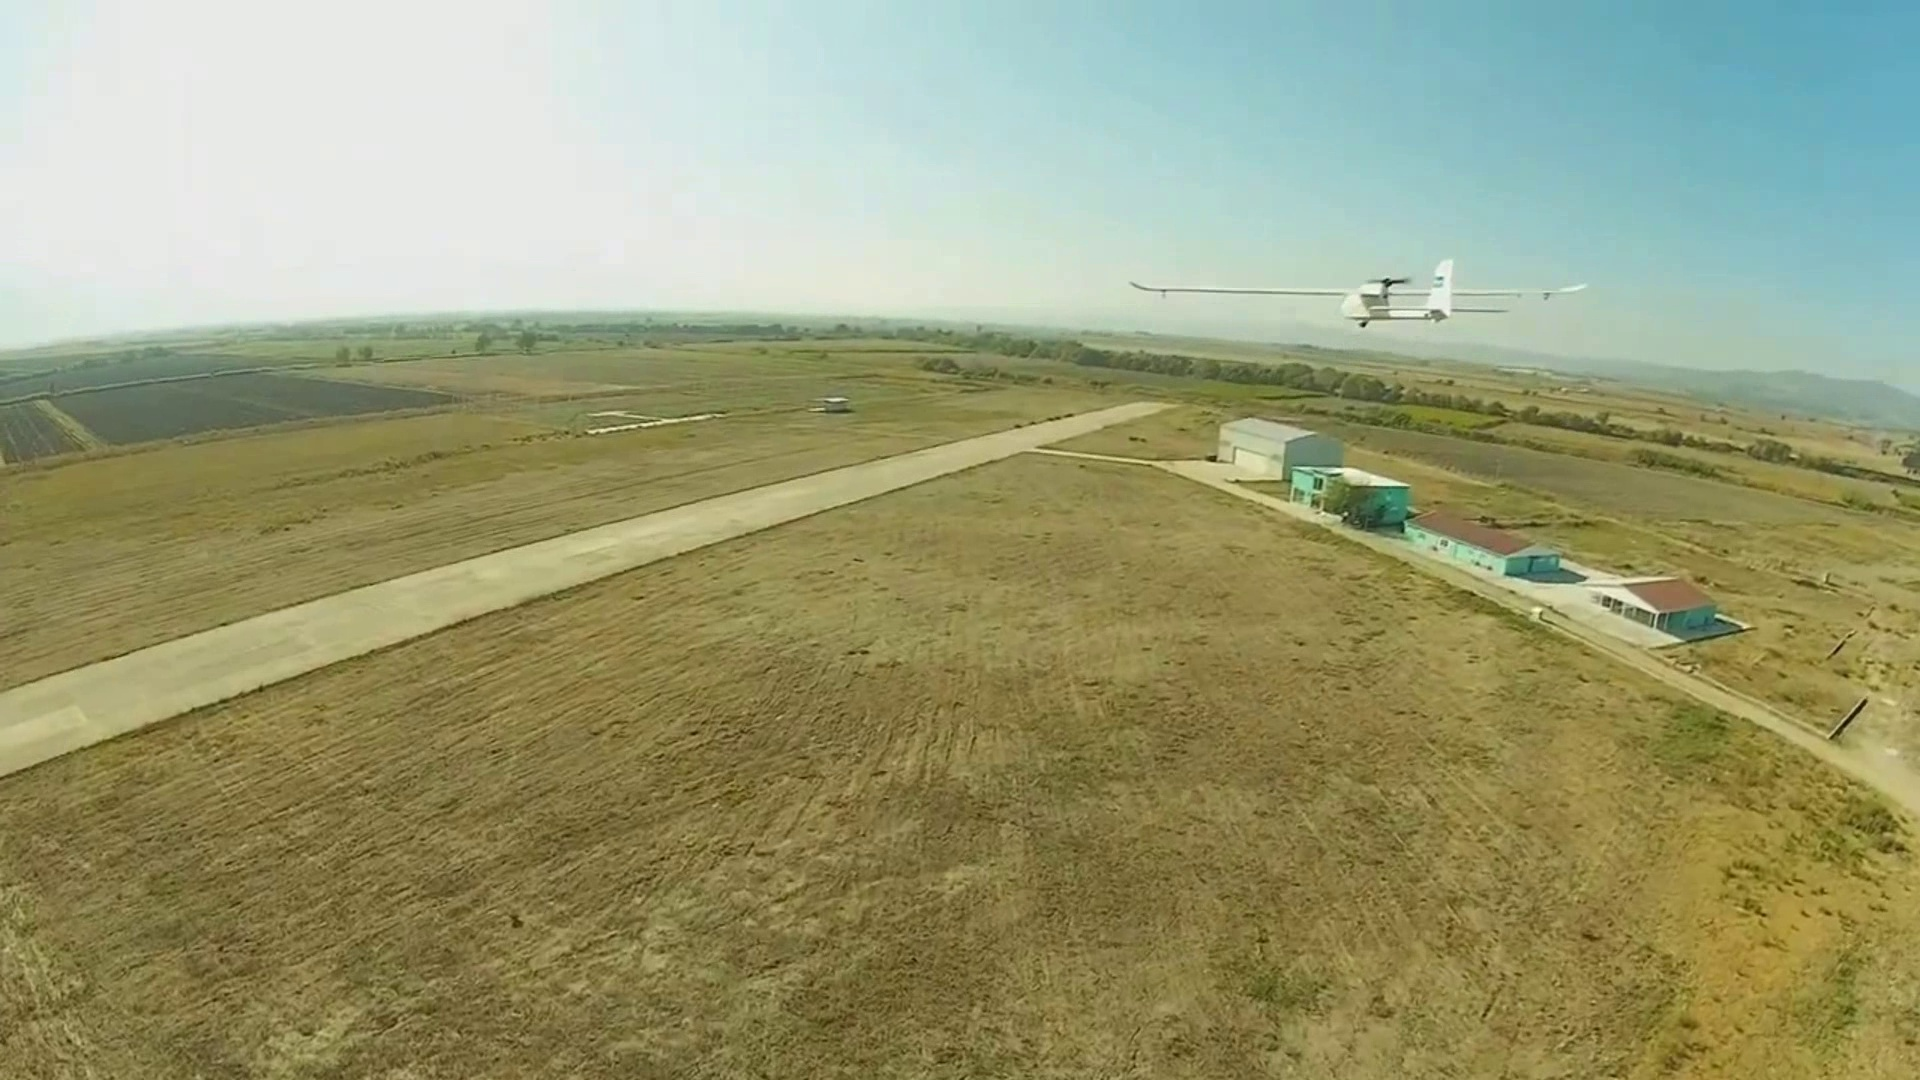airplane: (1127, 255, 1592, 334)
